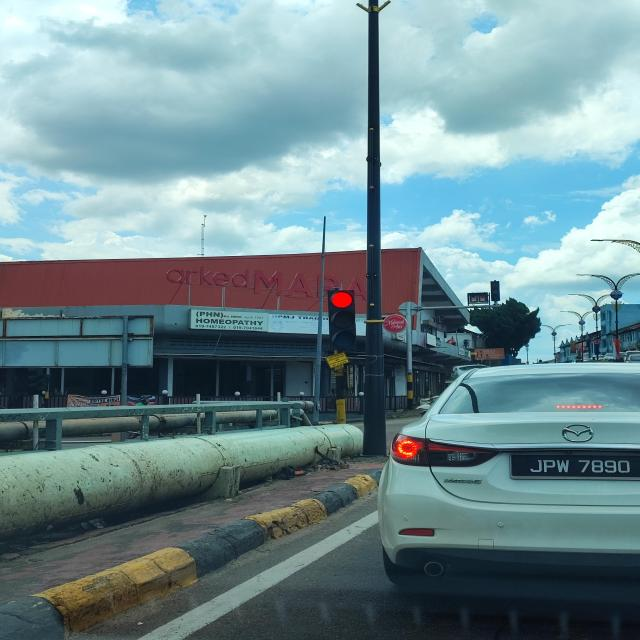car: (377, 360, 640, 597)
traffic light: (328, 289, 356, 352), (490, 280, 500, 302)
